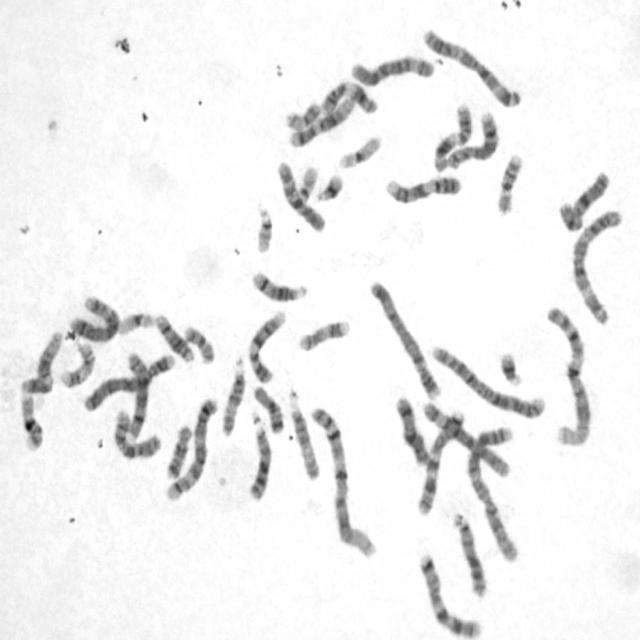A1: (308, 400, 380, 562), (543, 302, 593, 450)
A2: (428, 338, 548, 421), (464, 418, 524, 565)
A3: (418, 22, 524, 110), (569, 203, 626, 326)
B4: (366, 275, 442, 402), (81, 350, 177, 414)
B5: (163, 393, 219, 502), (64, 290, 122, 343)
C10: (274, 158, 327, 233), (112, 406, 164, 460)
C11: (430, 100, 474, 175), (318, 77, 379, 115)
C12: (285, 92, 357, 149), (17, 327, 63, 396)
C6: (420, 397, 514, 480), (348, 51, 436, 89)
C7: (416, 549, 485, 638), (414, 409, 466, 517)
C8: (444, 106, 500, 172), (123, 349, 150, 441)
C9: (244, 307, 288, 385), (382, 170, 464, 206)
D13: (449, 508, 489, 599), (246, 411, 272, 501)
D14: (152, 309, 196, 364), (247, 267, 309, 304)
D15: (285, 386, 321, 482), (219, 353, 248, 437)
E16: (493, 148, 525, 216), (17, 389, 45, 453)
E17: (295, 314, 352, 354), (57, 340, 97, 390)
E18: (250, 383, 286, 436), (163, 419, 193, 482)
F19: (335, 132, 383, 170), (116, 308, 155, 337)
F20: (180, 322, 216, 365), (283, 98, 322, 133)
G21: (496, 346, 524, 388), (314, 169, 346, 202)
G22: (252, 201, 275, 256), (294, 161, 320, 205)
X: (556, 166, 612, 235), (392, 391, 432, 468)
